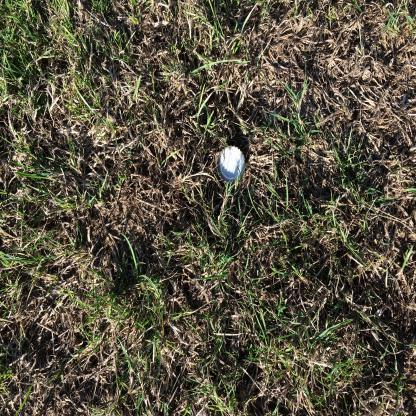metal: (217, 147, 247, 185)
